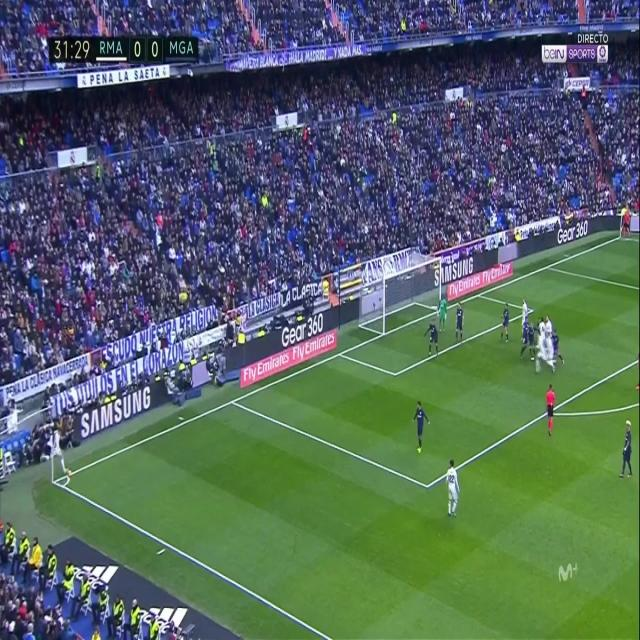Ball: (66, 467, 74, 480)
Goalkeeper: (434, 291, 449, 337)
Player: (442, 454, 465, 522), (616, 418, 635, 482), (412, 398, 430, 455), (51, 427, 68, 478), (421, 319, 442, 359), (451, 301, 468, 346), (522, 318, 535, 361), (498, 303, 511, 345), (544, 312, 556, 343), (518, 294, 528, 327), (538, 314, 545, 352)
Referee: (544, 380, 558, 440), (622, 206, 633, 240)
